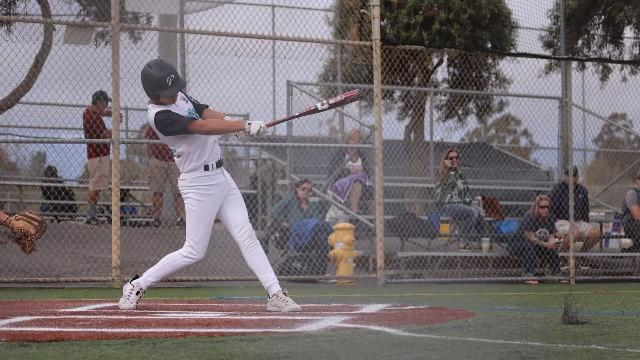bat: (264, 88, 366, 128)
